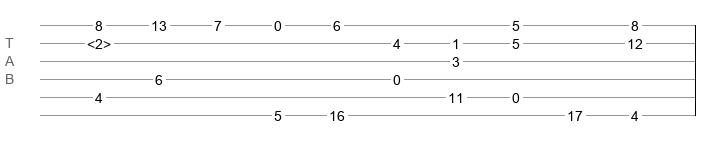0: (274, 18, 282, 28), (393, 72, 401, 82), (512, 90, 520, 100)
1: (452, 36, 460, 46)
11: (448, 90, 464, 100)
12: (627, 36, 643, 46)
13: (151, 18, 167, 28)
16: (329, 108, 345, 118)
17: (567, 108, 583, 118)
3: (452, 54, 460, 64)
4: (95, 90, 103, 100), (393, 36, 401, 46), (631, 108, 639, 118)
5: (274, 108, 282, 118), (512, 36, 520, 46), (512, 18, 520, 28)
6: (155, 72, 163, 82), (333, 18, 341, 28)
7: (214, 18, 222, 28)
8: (95, 18, 103, 28), (631, 18, 639, 28)
harmonic: (87, 36, 111, 46)
